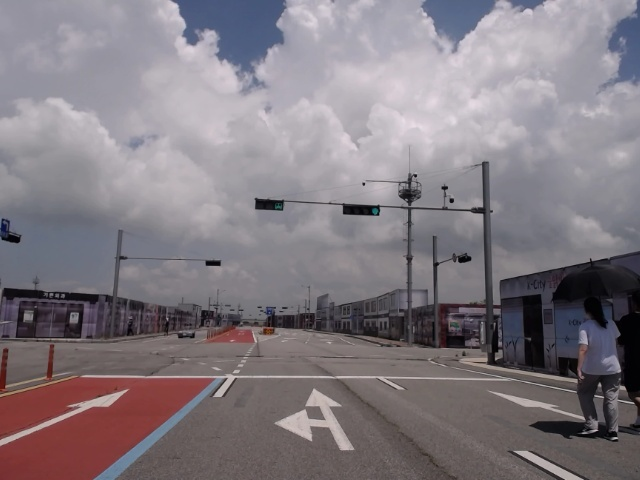straight_green_4: (341, 205, 382, 216)
